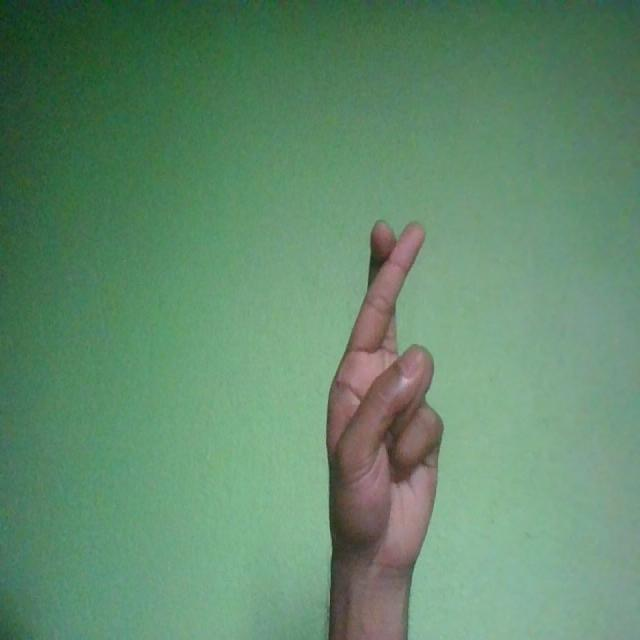Ok: (326, 218, 444, 586)
